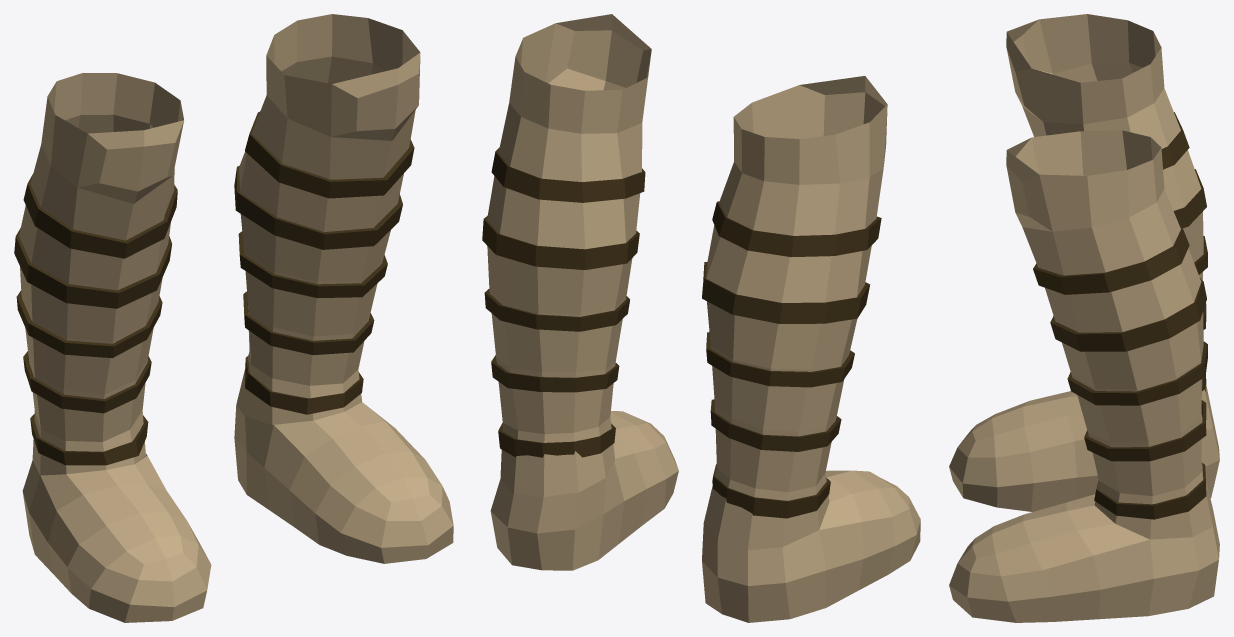
File: Icon 3.fbx
3 renders of one model, left to right at view 1: azimuth 30°, elevation 25°; view 2: azimuth 150°, elevation 25°; view 3: azimuth 270°, elevation 25°, orthographic. The views are drawn at different scales.
Parts seen in each view (by area): view 1: Cube.020; view 2: Cube.020; view 3: Cube.020.
Boxes of the visible parts, x1,y1,x2,y2 form: Cube.020: (14,14,453,622); Cube.020: (482,14,920,622); Cube.020: (949,14,1219,622).
Size of the model in its own units: 44.69 by 55 by 29.99.
